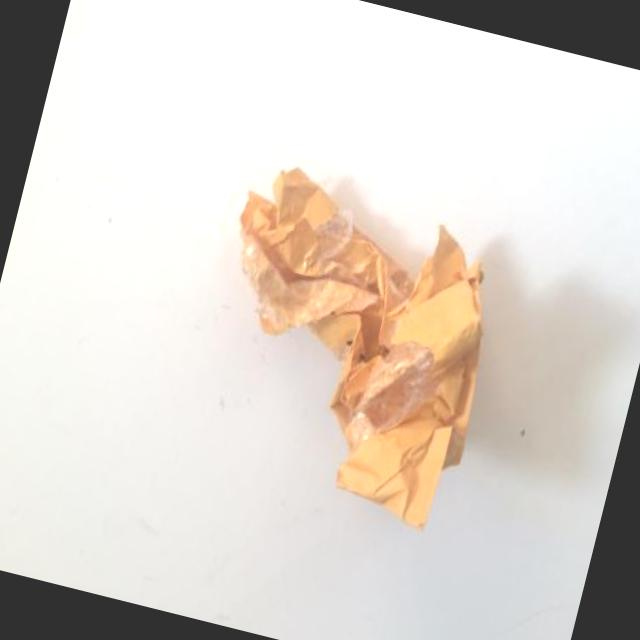Trash: (178, 154, 522, 537)
